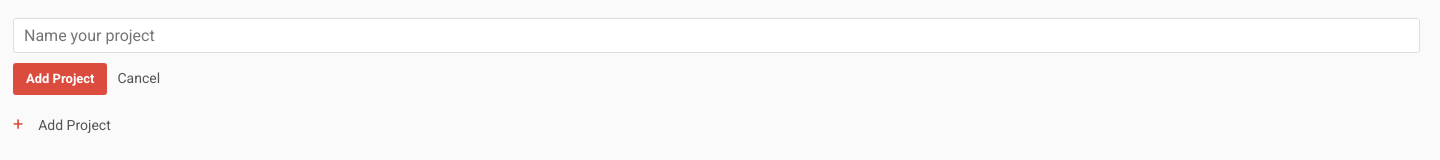
Test: <AddProject /> › Success › hides AddProject main on click
Expected: the element with test id "add-project-inner" is shown, [13,18,1420,95]
Click the button with test id "add-project-action": point(74, 125) [38,118,111,132]
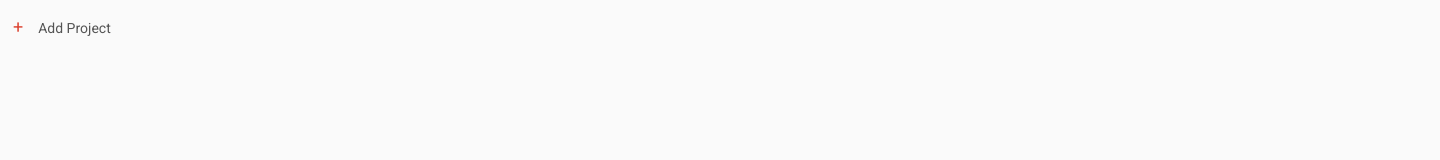
Expected: the element with test id "add-project" is shown, [13,16,111,37]
Expected: the element with test id "add-project-inner" is gone
